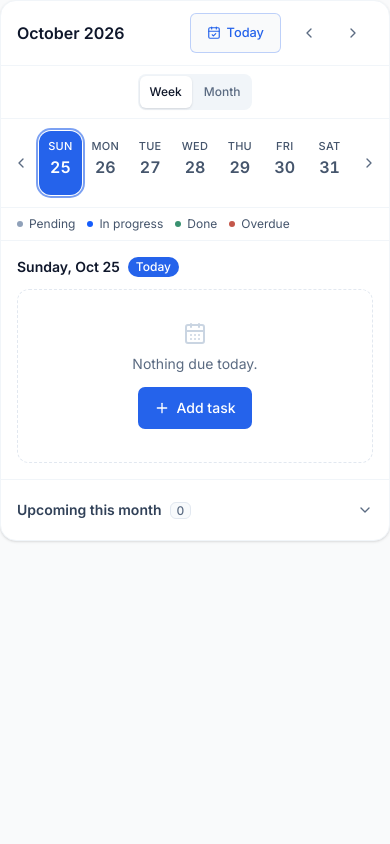
Test: CalendarView › explains an empty month in the upcoming list
The width and height of the screenshot is (390, 844).
Click the button "Upcoming this month0" at (89, 510), box [17,488,373,532]
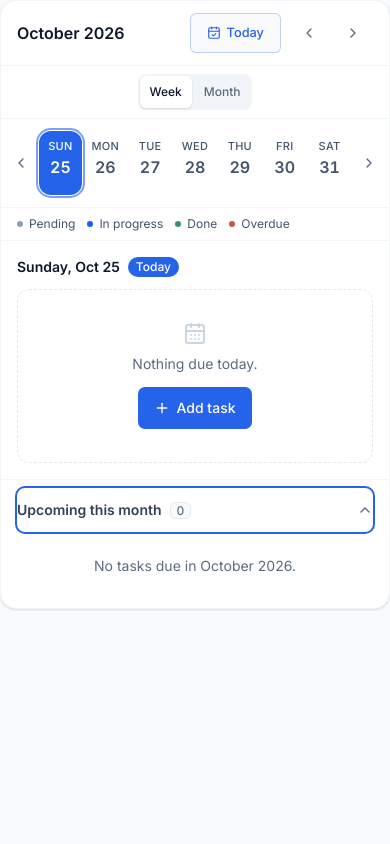
Expected: the text "No tasks due in October 2026." is shown, [94,557,296,574]
